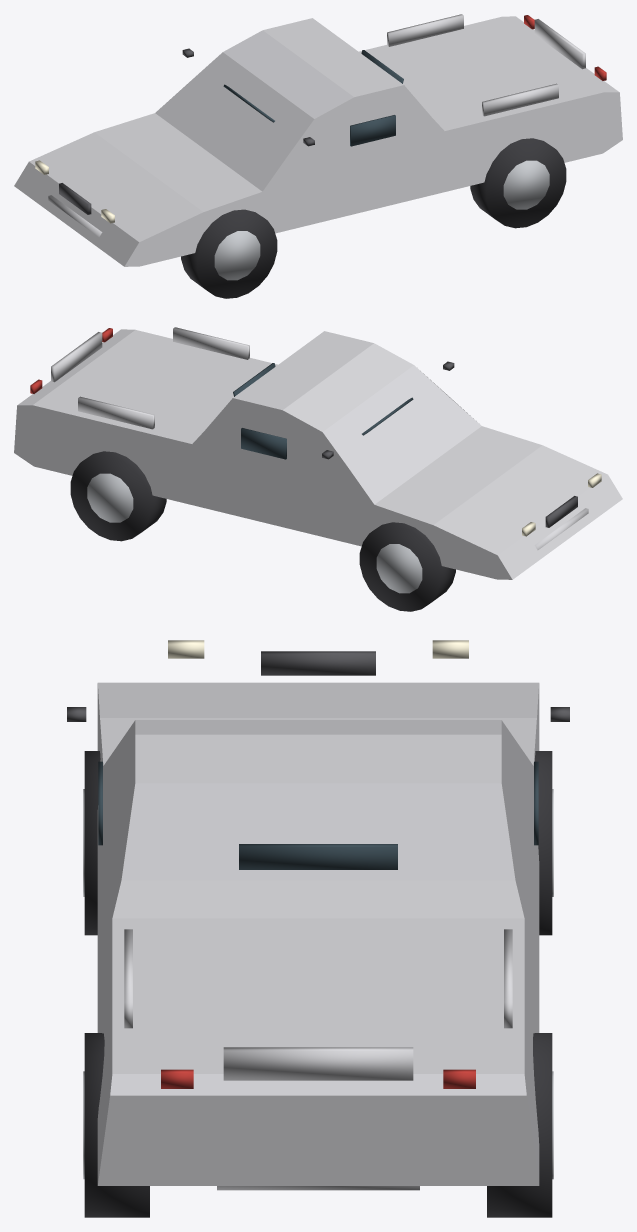
File: pickup.glb
3 views of the same model, one above another, from view 1: azimuth 30°, elevation 25°; view 2: azimuth 150°, elevation 25°; view 3: azimuth 270°, elevation 25° (orthographic). The views are drawn at different scales.
Visible parts, largest first — view 1: body_main, wheel_rear_r, wheel_front_r, trim_rim__front_r, trim_rim__rear_r, body_bedwall_r, body_bedwall_l, glass_side_r, body_tailgate, trim_grille, body_bumper_front; view 2: body_main, wheel_rear_l, wheel_front_l, trim_rim__front_l, trim_rim__rear_l, body_bedwall_l, body_bedwall_r, glass_side_l, body_tailgate, trim_grille, body_bumper_front; view 3: body_main, body_tailgate, wheel_rear_l, wheel_rear_r, glass_rear, trim_grille, wheel_front_l, wheel_front_r, body_bumper_rear, body_bedwall_l, body_bedwall_r.
Boxes of the visible parts, bbox=[...] form: body_main: bbox=[14, 16, 622, 266]; wheel_rear_r: bbox=[470, 138, 566, 228]; wheel_front_r: bbox=[181, 209, 277, 298]; trim_rim__front_r: bbox=[214, 231, 260, 280]; trim_rim__rear_r: bbox=[503, 160, 549, 209]; body_bedwall_r: bbox=[482, 83, 558, 116]; body_bedwall_l: bbox=[387, 14, 463, 46]; glass_side_r: bbox=[350, 115, 395, 146]; body_tailgate: bbox=[534, 19, 585, 69]; trim_grille: bbox=[59, 183, 91, 214]; body_bumper_front: bbox=[48, 195, 102, 237]; body_main: bbox=[14, 329, 622, 579]; wheel_rear_l: bbox=[70, 451, 166, 541]; wheel_front_l: bbox=[359, 522, 455, 611]; trim_rim__front_l: bbox=[376, 544, 422, 593]; trim_rim__rear_l: bbox=[87, 473, 133, 522]; body_bedwall_l: bbox=[78, 396, 154, 429]; body_bedwall_r: bbox=[173, 327, 249, 359]; glass_side_l: bbox=[241, 428, 286, 459]; body_tailgate: bbox=[51, 332, 102, 382]; trim_grille: bbox=[545, 496, 577, 527]; body_bumper_front: bbox=[534, 508, 588, 550]; body_main: bbox=[97, 682, 539, 1185]; body_tailgate: bbox=[223, 1047, 413, 1080]; wheel_rear_l: bbox=[487, 1033, 552, 1217]; wheel_rear_r: bbox=[84, 1033, 149, 1217]; glass_rear: bbox=[239, 844, 397, 869]; trim_grille: bbox=[261, 651, 375, 675]; wheel_front_l: bbox=[535, 751, 552, 935]; wheel_front_r: bbox=[84, 751, 100, 935]; body_bumper_rear: bbox=[217, 1186, 419, 1190]; body_bedwall_l: bbox=[504, 929, 512, 1028]; body_bedwall_r: bbox=[124, 929, 132, 1028].
Bounding box in the file's own units: 6 × 1.84 × 2.62.
